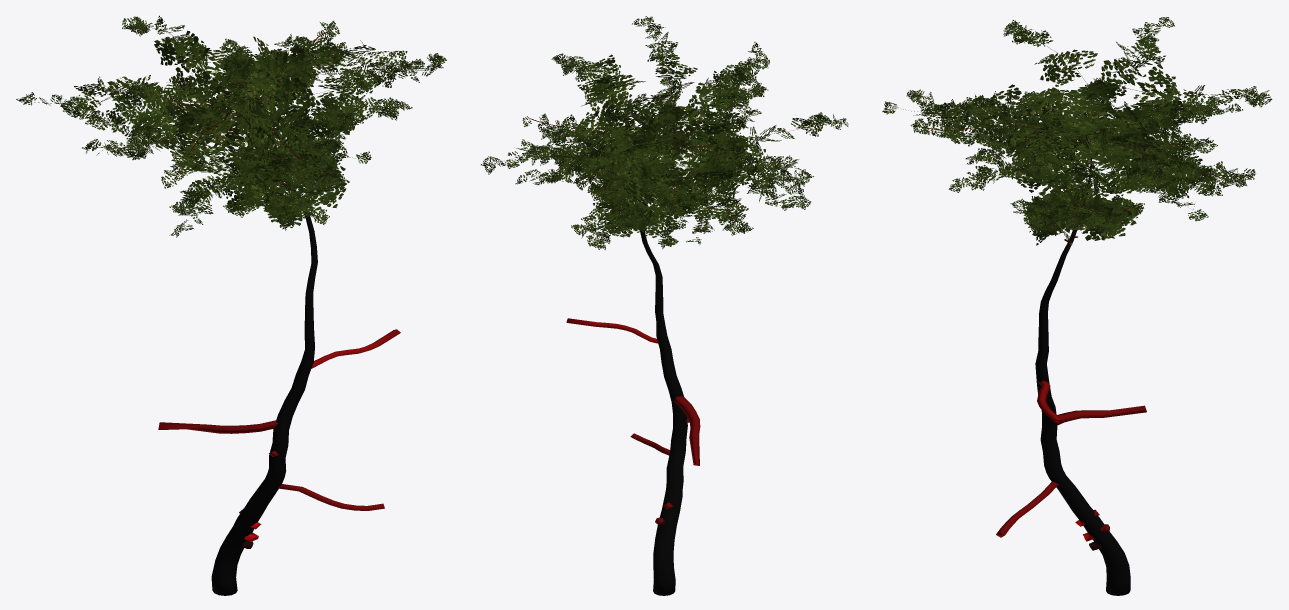
The picture shows the model from 3 angles, left to right: view 1: azimuth 30°, elevation 25°; view 2: azimuth 150°, elevation 25°; view 3: azimuth 270°, elevation 25°; orthographic projection. The views are drawn at different scales.
Visible parts, largest first — view 1: Tree19; view 2: Tree19; view 3: Tree19.
Boxes of the visible parts, x1,y1,x2,y2 form: Tree19: [16, 15, 446, 595]; Tree19: [481, 16, 848, 595]; Tree19: [882, 17, 1272, 595].
Size of the model in its own units: 4 by 6 by 4.
